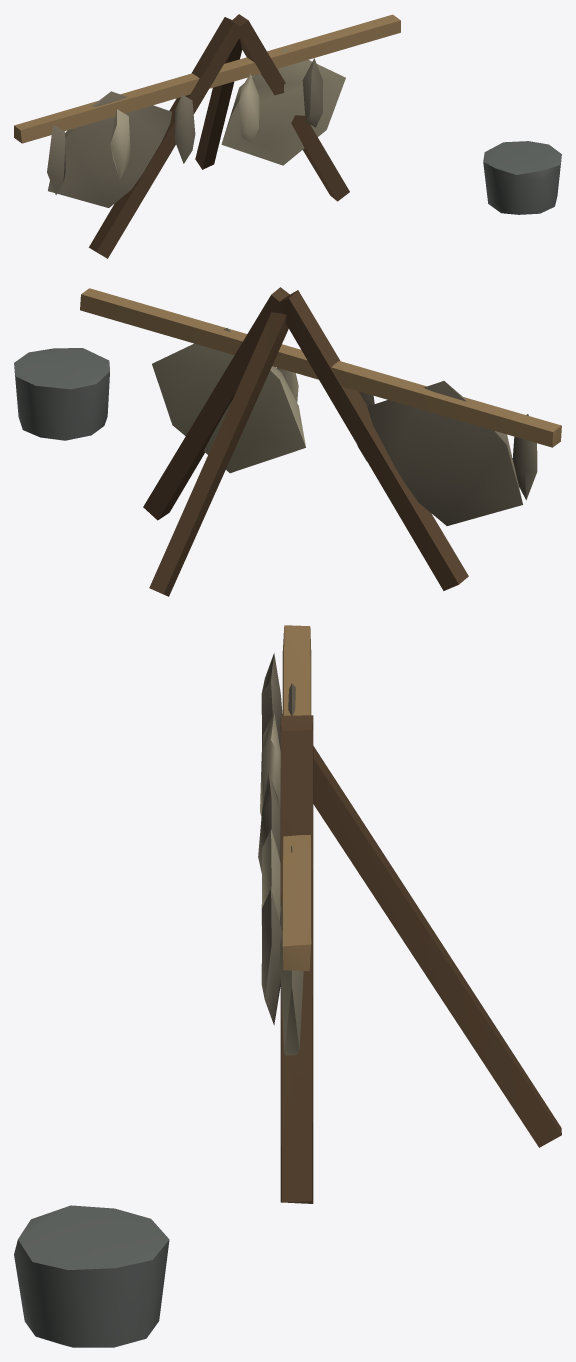
File: fish_rack_a_lod2.glb
3 views of the same model, one above another, from view 1: azimuth 30°, elevation 25°; view 2: azimuth 150°, elevation 25°; view 3: azimuth 270°, elevation 25° (orthographic). The views are drawn at different scales.
Visible parts, largest first — view 1: Surface.001; view 2: Surface.001; view 3: Surface.001.
Boxes of the visible parts, box(x1,y1,x2,y2) form: Surface.001: box(14, 14, 561, 258); Surface.001: box(14, 287, 561, 596); Surface.001: box(14, 625, 561, 1347).
Size of the model in its own units: 4.17 by 1.69 by 2.14.
